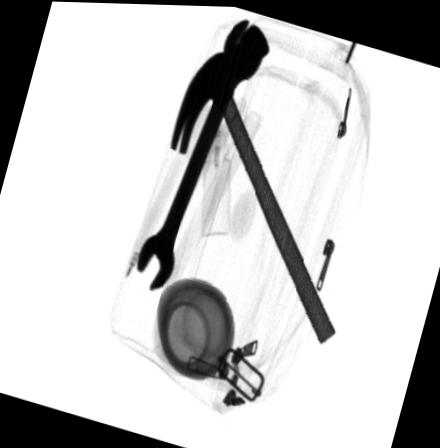Hammer: (169, 22, 335, 343)
Wrench: (137, 18, 263, 289)
